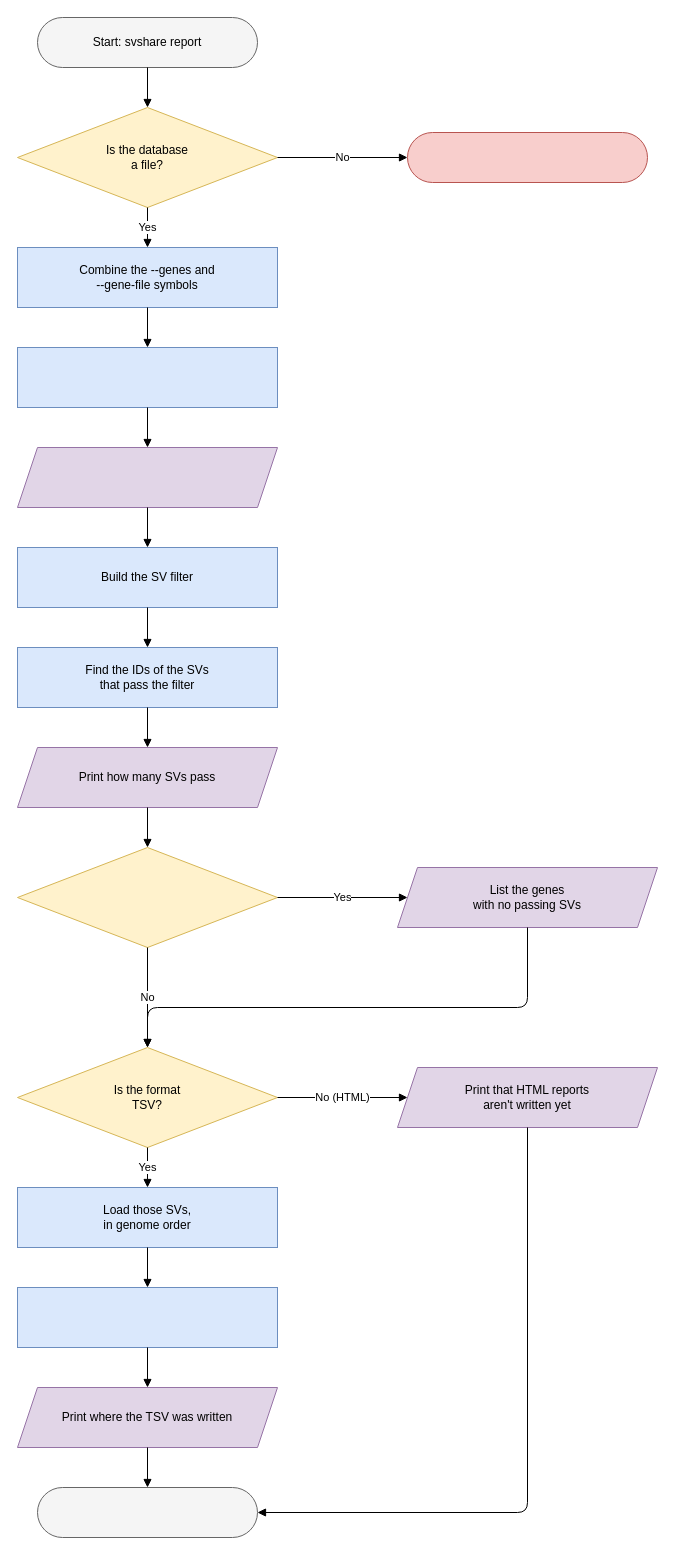
Some shapes in this 675 by 1555 pixel diagram are drawn without their labels. The shapes that lost their labels are listed below. From the top down, each one's centre as x and y in pixels, then its label:
the point at 527,157: Stop: it isn't a file
the point at 147,377: Choose the output path (default: next to the database)
the point at 147,477: Print the report settings
the point at 147,897: Any genes with no passing SVs?
the point at 147,1317: Write the TSV
the point at 147,1512: End
